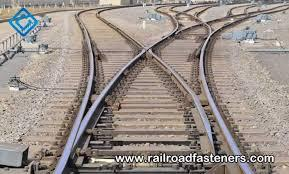track: (48, 4, 289, 174), (48, 4, 256, 174), (48, 4, 256, 174), (50, 6, 231, 174)
